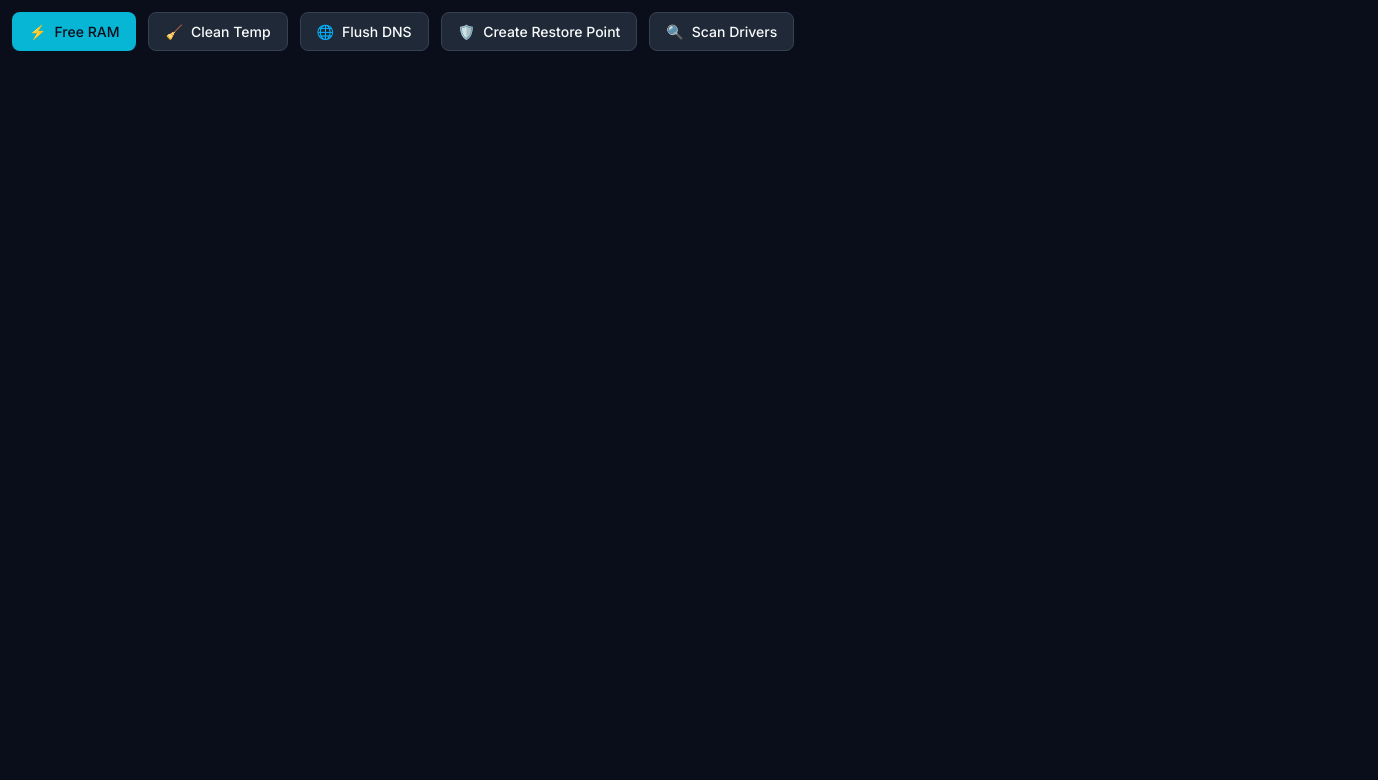
QuickFixBar (Fase 3.1-3.5) › never hides a Clean Temp failure (error toast + visible status)
Click the button with test id "quickfix-clean-temp": (218, 32) [148,12,288,51]
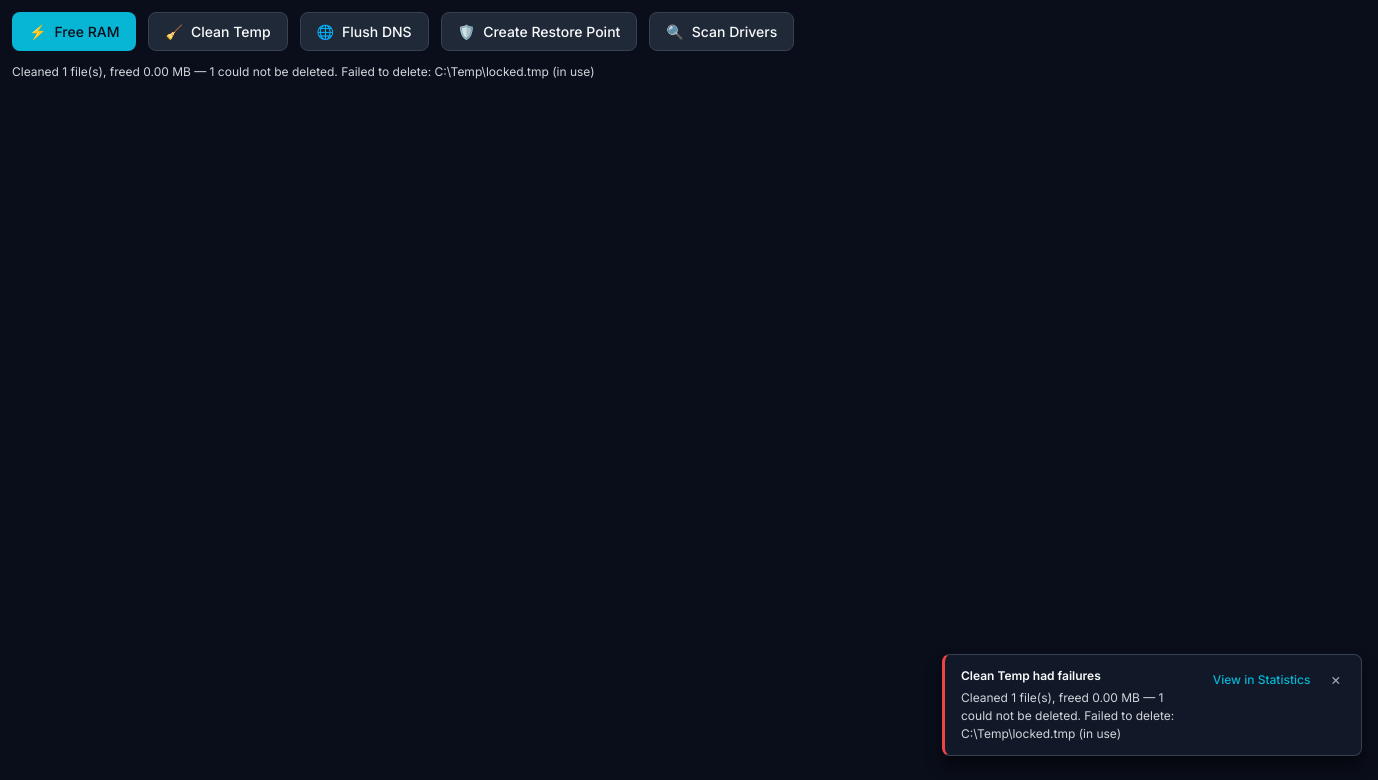
Check: the element with test id "toast" is shown, box [942,654,1362,756]
Check: the text "could not be deleted" is shown, box [961,690,1174,741]
Check: the message with test id "quickfix-status" shows "could not be deleted", box [12,64,595,79]
